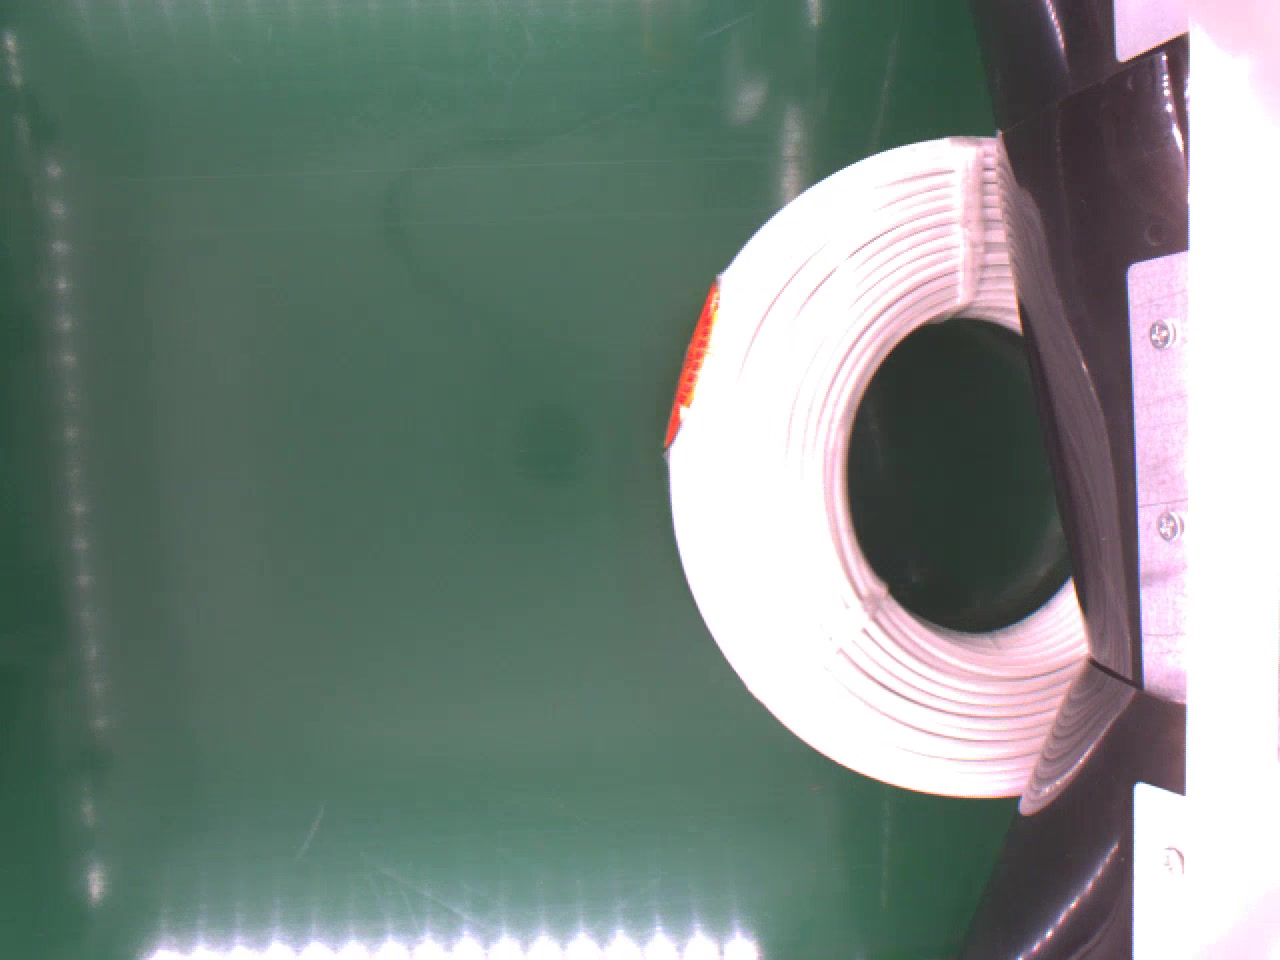white: (664, 132, 1094, 796)
